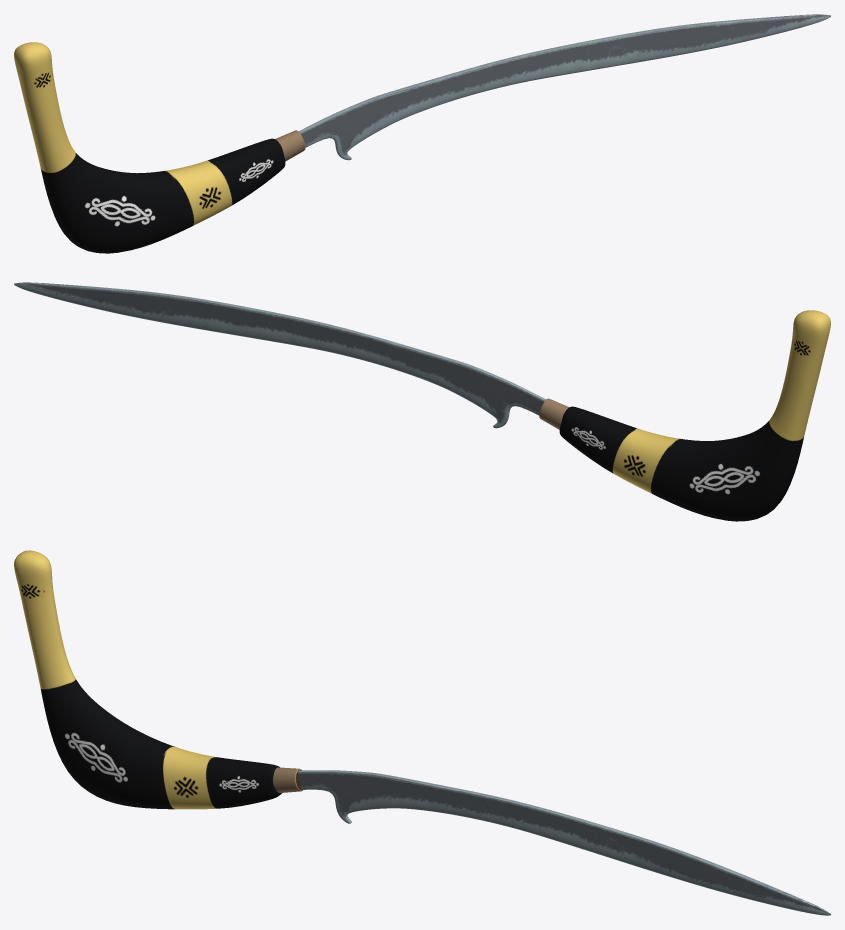
File: sumatra_rencong_aceh.glb
3 renders of one model, top to bottom at view 1: azimuth 30°, elevation 25°; view 2: azimuth 150°, elevation 25°; view 3: azimuth 330°, elevation 25°, orthographic.
Visible parts, largest first — view 1: Plane; view 2: Plane; view 3: Plane.
Part boxes in pixels (x1=…): Plane: x1=14, y1=14, x2=830, y2=253; Plane: x1=14, y1=282, x2=830, y2=521; Plane: x1=14, y1=550, x2=830, y2=915.
Size of the model in its own units: 6.5 by 1.73 by 0.3862.
4 materials, 4 textured.
